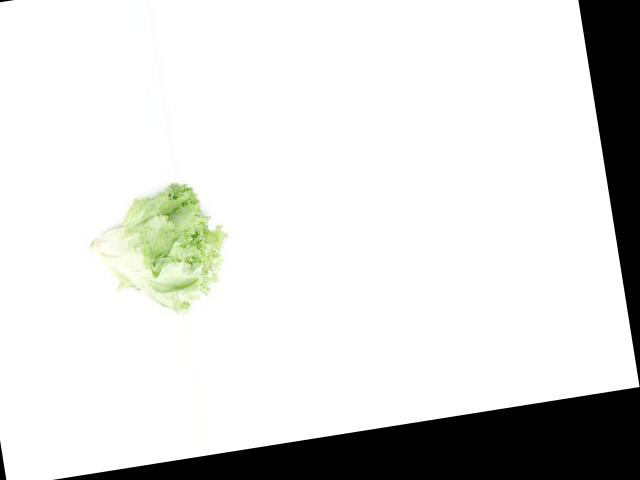lettuce: (68, 180, 241, 334)
